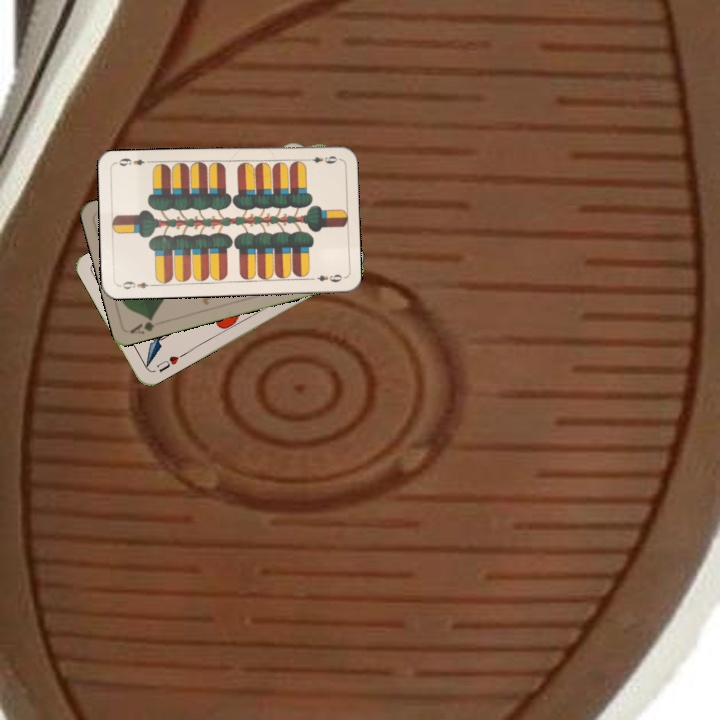E9: (116, 277, 156, 292), (301, 152, 341, 166)
GA: (127, 313, 157, 336)
HU: (153, 350, 186, 375)
